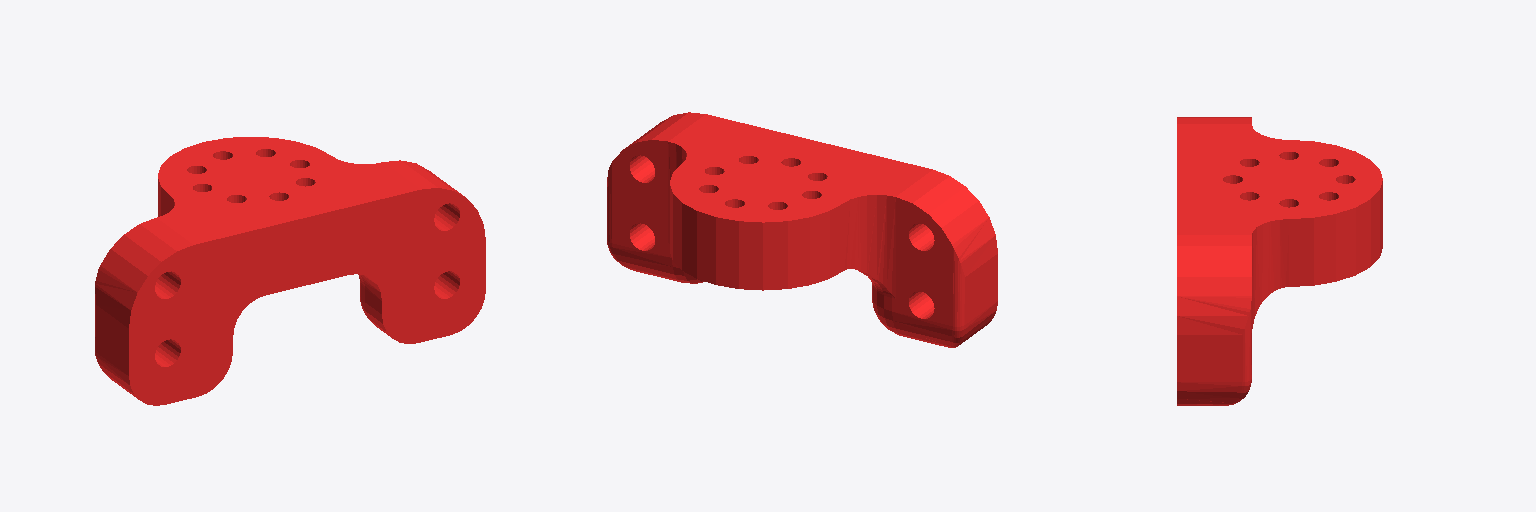
File: T200_bracket_03_T200_bracket.obj
The picture shows the model from 3 angles: view 1: azimuth 30°, elevation 25°; view 2: azimuth 150°, elevation 25°; view 3: azimuth 270°, elevation 25°; orthographic projection.
Size of the model in its own units: 0.0698 by 0.0286 by 0.0349.